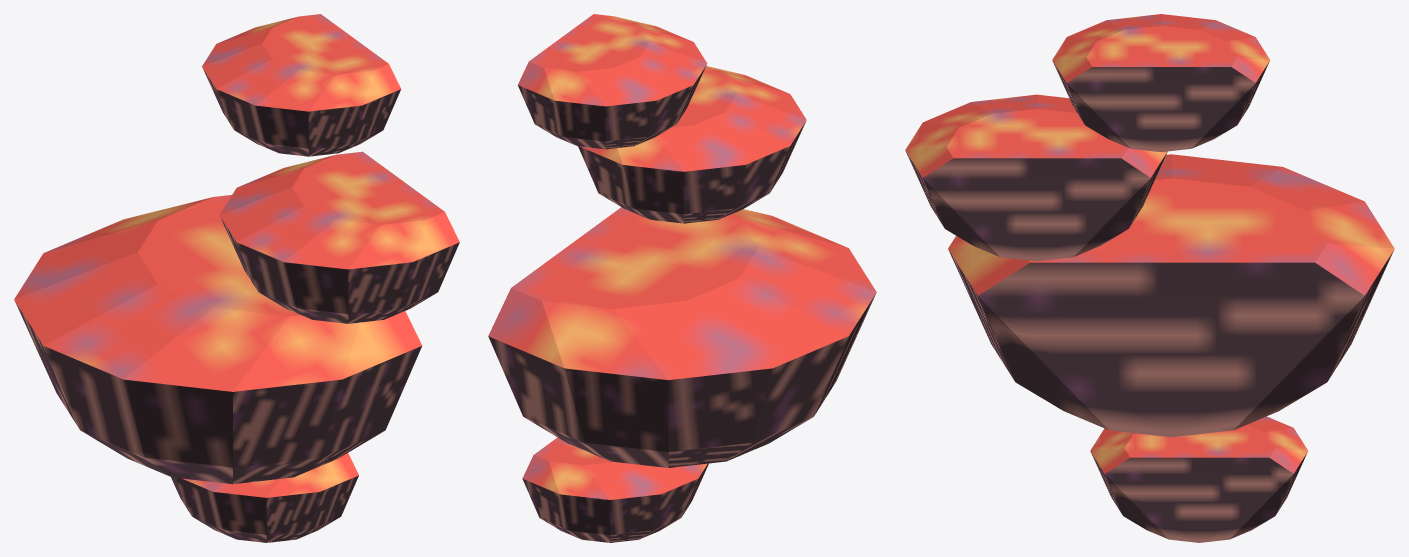
File: Mushroom_3.obj
3 views of the same model, side by side, from view 1: azimuth 30°, elevation 25°; view 2: azimuth 150°, elevation 25°; view 3: azimuth 270°, elevation 25° (orthographic). The views are drawn at different scales.
Parts seen in each view (by area): view 1: _Shroom_3_Cylinder.003; view 2: _Shroom_3_Cylinder.003; view 3: _Shroom_3_Cylinder.003.
Boxes of the visible parts, <box> form: _Shroom_3_Cylinder.003: <box>14,14,459,542</box>; _Shroom_3_Cylinder.003: <box>488,14,876,542</box>; _Shroom_3_Cylinder.003: <box>905,14,1394,542</box>.
Bounding box in the file's own units: 1.65 × 2.4 × 2.19.
